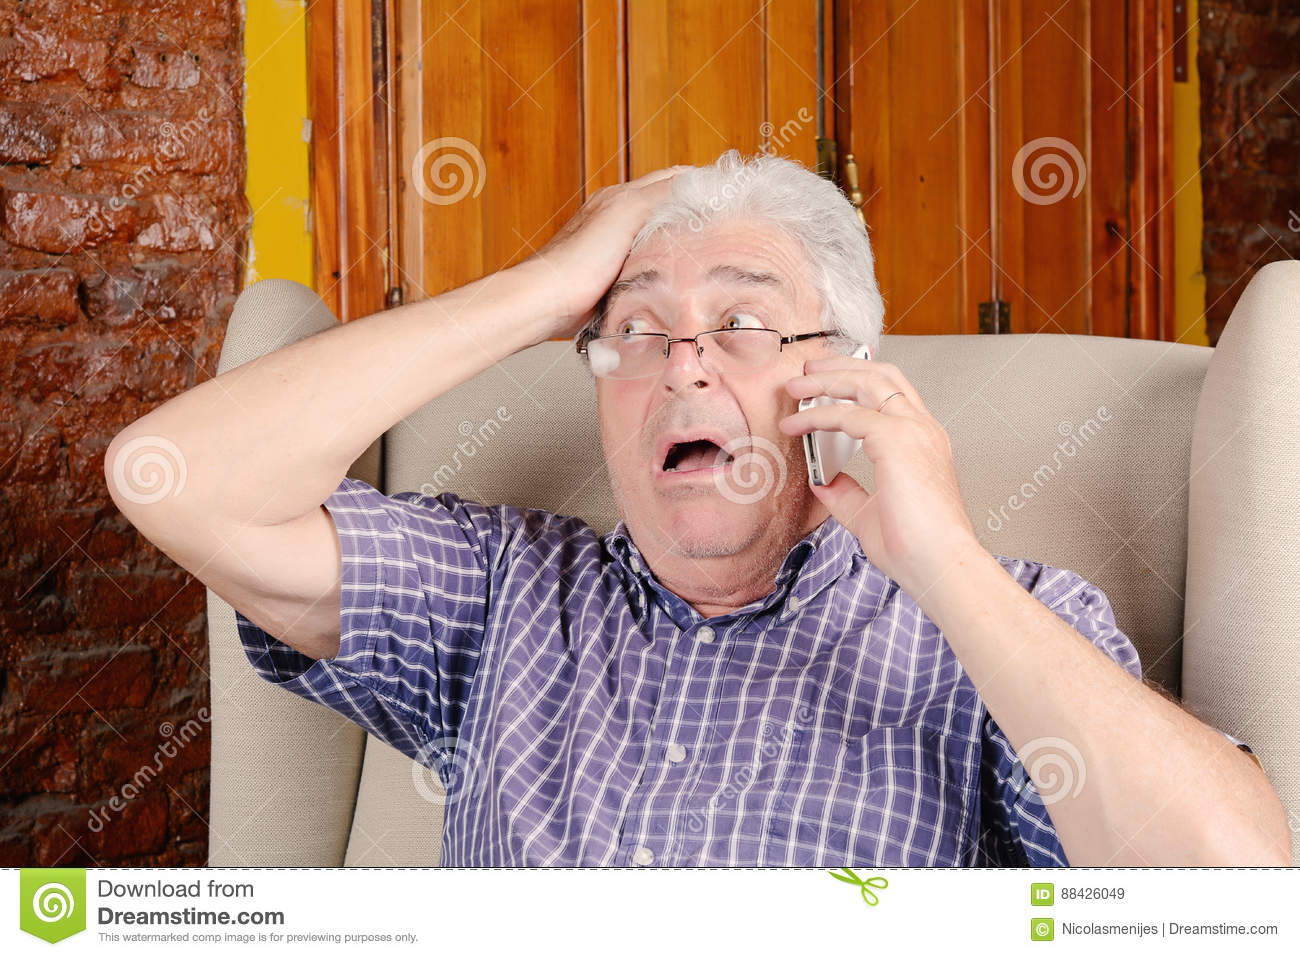phone: (802, 346, 874, 482)
talk: (602, 262, 976, 614)
